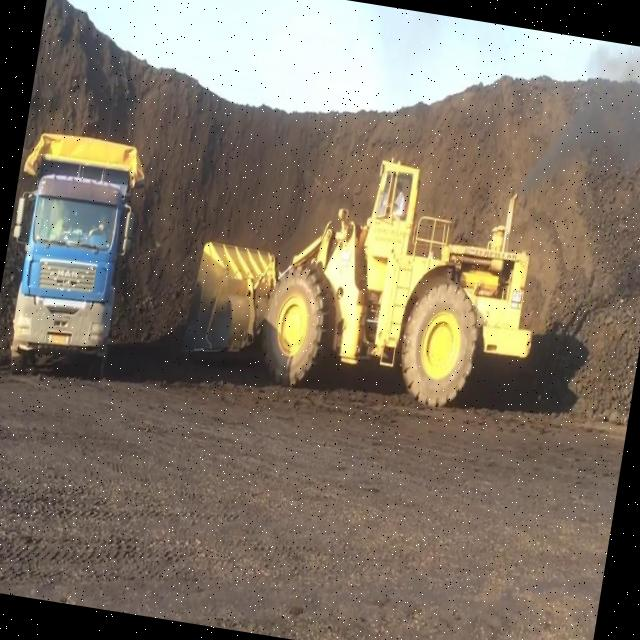Dump Truck: (0, 118, 151, 393)
Loader: (172, 121, 558, 438)
